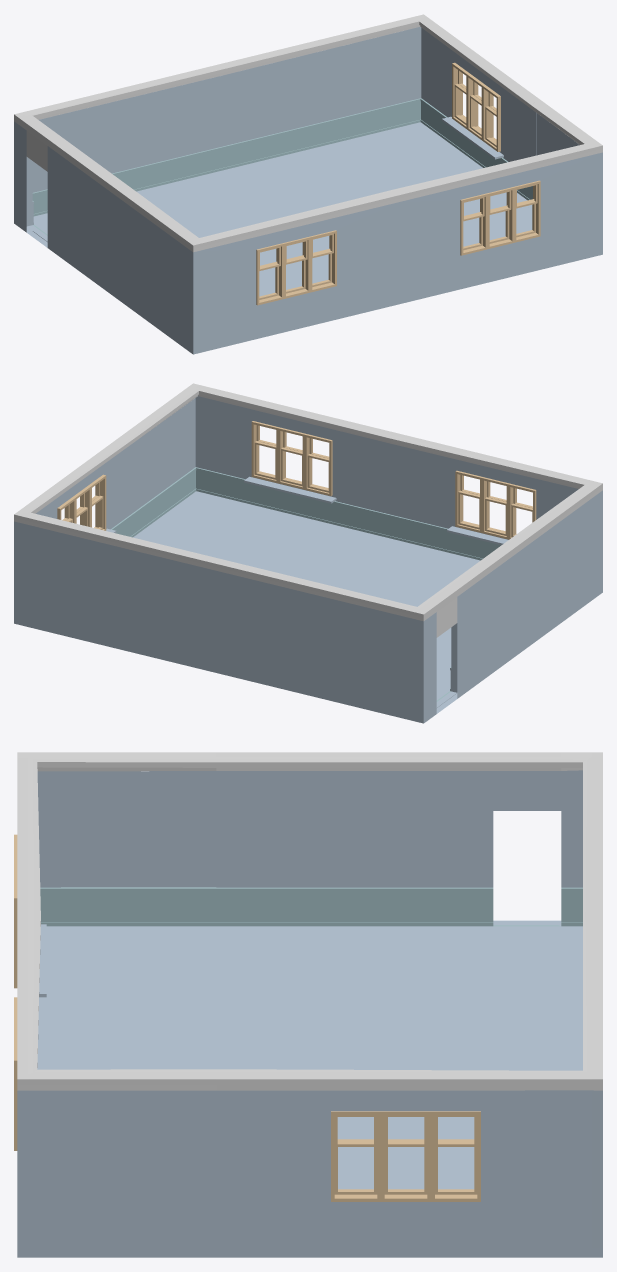
File: classroomWallWindow.fbx
3 views of the same model, one above another, from view 1: azimuth 30°, elevation 25°; view 2: azimuth 150°, elevation 25°; view 3: azimuth 270°, elevation 25° (orthographic). The views are drawn at different scales.
Parts seen in each view (by area): view 1: Classroom, Classroom.001, Window_Frame_Out_A.003, Window_Frame_Out_C.002, Window_Frame_Out_B.002, Window_Frame_Out_C.001, Window_Frame_Out_A.002, Window_Frame_Out_C.003, Window_Frame_Out_A.001, Window_Frame_Out_B.001, Window_Frame_Out_B.003; view 2: Classroom, Classroom.001, Window_Frame_Out_C.002, Window_Frame_Out_A.002, Window_Frame_Out_B.001, Window_Frame_Out_B.002, Window_Frame_Out_A.001, Window_Frame_Out_A.003, Window_Frame_Out_C.001; view 3: Classroom, Classroom.001, Window_Frame_Out_A.003, Window_Frame_Out_B.003, Window_Frame_Out_C.003, Window_Frame_In_Big_A.003, Window_Frame_In_Big_C.003, Window_Frame_In_Big_B.003.
Boxes of the visible parts, box(x1,y1,x2,y2) form: Classroom: box(14, 14, 541, 309); Classroom.001: box(132, 101, 602, 354); Window_Frame_Out_A.003: box(482, 85, 500, 151); Window_Frame_Out_C.002: box(460, 193, 487, 255); Window_Frame_Out_B.002: box(487, 187, 514, 248); Window_Frame_Out_C.001: box(256, 243, 283, 305); Window_Frame_Out_A.002: box(514, 180, 540, 242); Window_Frame_Out_C.003: box(467, 74, 484, 140); Window_Frame_Out_A.001: box(310, 230, 336, 292); Window_Frame_Out_B.001: box(283, 236, 310, 298); Window_Frame_Out_B.003: box(452, 62, 469, 129); Classroom: box(14, 428, 541, 723); Classroom.001: box(132, 383, 602, 636); Window_Frame_Out_C.002: box(304, 434, 332, 496); Window_Frame_Out_A.002: box(251, 421, 278, 483); Window_Frame_Out_B.001: box(482, 477, 509, 539); Window_Frame_Out_B.002: box(278, 427, 305, 489); Window_Frame_Out_A.001: box(455, 470, 482, 532); Window_Frame_Out_A.003: box(88, 474, 106, 530); Window_Frame_Out_C.001: box(508, 483, 536, 539); Classroom: box(216, 752, 602, 1257); Classroom.001: box(17, 752, 216, 1257); Window_Frame_Out_A.003: box(331, 1111, 380, 1201); Window_Frame_Out_B.003: box(431, 1111, 480, 1201); Window_Frame_Out_C.003: box(381, 1111, 430, 1201); Window_Frame_In_Big_A.003: box(334, 1139, 377, 1194); Window_Frame_In_Big_C.003: box(384, 1139, 427, 1194); Window_Frame_In_Big_B.003: box(435, 1139, 477, 1194).
Size of the model in its own units: 1487 by 377 by 1130.
